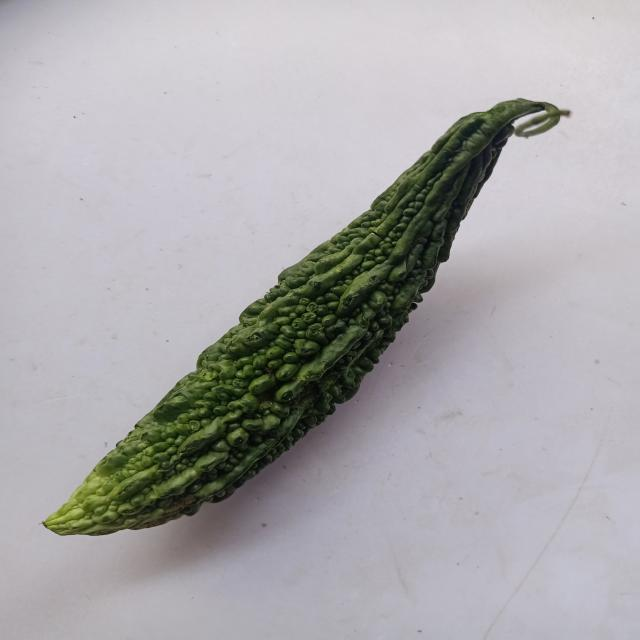Bitter Gourd: (39, 48, 616, 608)
